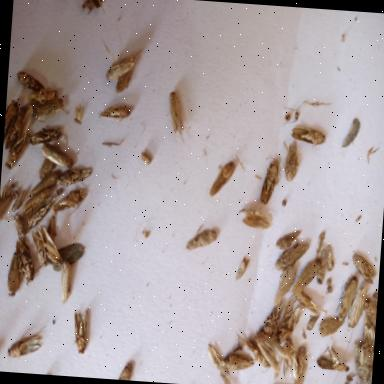pbw: (104, 48, 144, 83), (290, 259, 322, 297), (204, 344, 234, 384), (274, 240, 310, 273), (37, 227, 64, 271), (334, 275, 358, 323), (51, 187, 86, 218), (14, 238, 36, 287), (278, 306, 304, 345), (347, 284, 369, 330), (260, 158, 281, 206), (209, 160, 235, 198), (7, 332, 42, 360), (316, 346, 350, 374), (166, 91, 187, 136), (274, 266, 296, 308), (290, 126, 326, 151), (350, 252, 378, 284), (28, 170, 59, 198), (56, 164, 92, 188), (40, 143, 73, 169), (71, 310, 90, 355), (26, 200, 52, 231), (294, 290, 324, 316), (32, 98, 64, 122), (29, 232, 49, 270), (5, 134, 26, 170), (22, 190, 48, 219), (255, 340, 280, 370), (351, 343, 369, 384), (186, 229, 218, 252), (260, 302, 282, 334), (239, 209, 271, 231), (260, 334, 289, 358), (27, 126, 61, 146), (8, 250, 22, 298), (15, 71, 46, 92), (59, 261, 73, 305), (4, 98, 20, 136), (114, 64, 133, 96), (276, 228, 301, 252), (223, 354, 254, 373), (293, 345, 308, 384), (318, 317, 344, 339), (17, 100, 32, 138), (100, 104, 130, 122), (284, 147, 298, 182), (78, 0, 104, 16), (316, 249, 327, 285), (10, 191, 26, 213), (11, 214, 25, 239), (0, 190, 10, 220), (325, 244, 335, 272), (304, 314, 318, 331), (118, 363, 132, 380), (366, 300, 376, 320), (361, 323, 369, 342), (369, 325, 375, 344)
